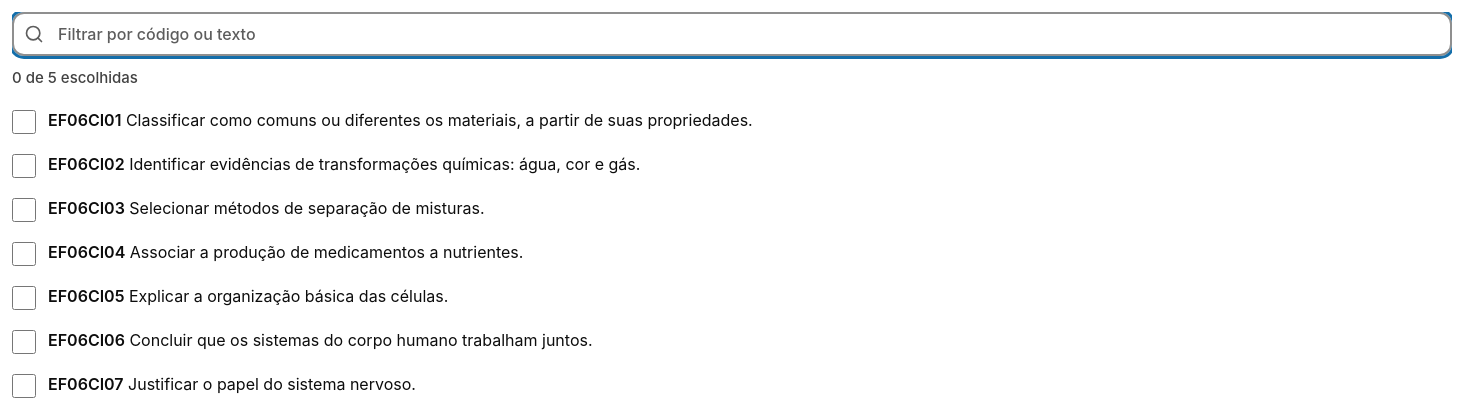
Test case: o filtro › na tela: digitar por código e por texto reduz a lista, e o que não acha diz "Nenhuma habilidade com esse código ou texto."
Type "ci05" into the search field labelled "Filtrar por código ou texto" at [732, 34], box [12,12,1452,56]
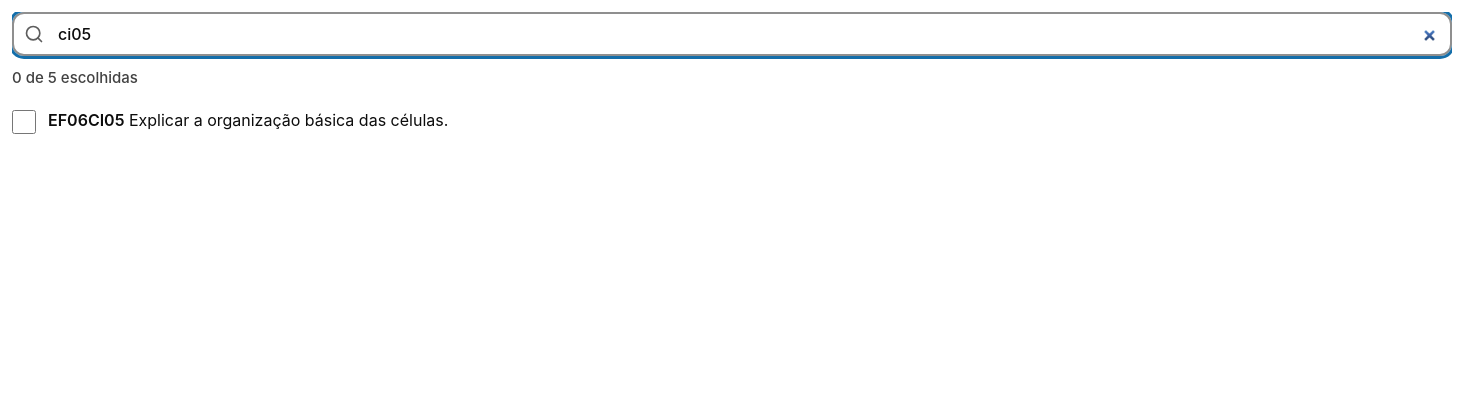
Replace the text in the search field named "Filtrar por código ou texto" with "célula" at [732, 34], box [12,12,1452,56]
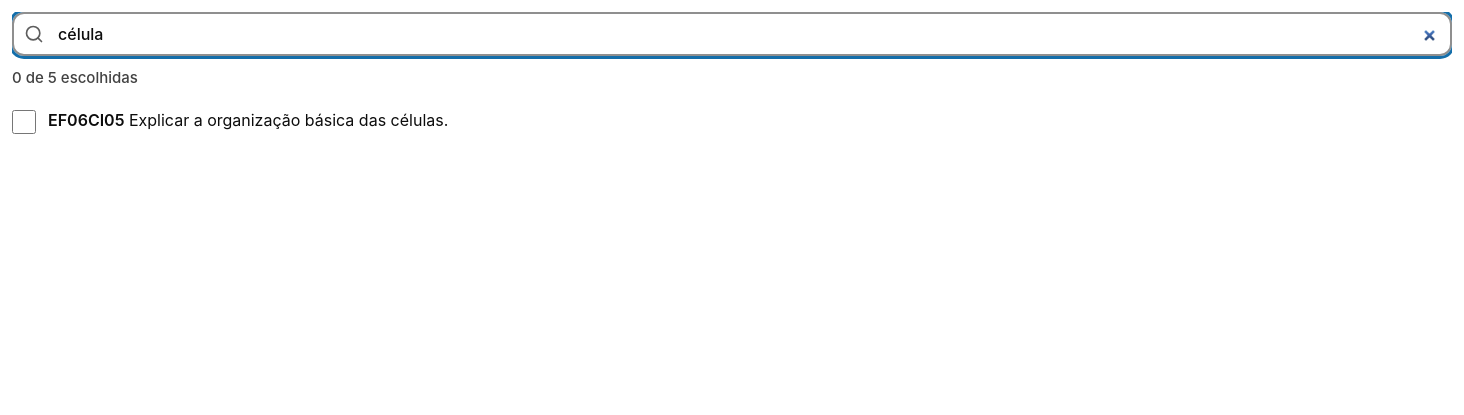
Check: the number of checkboxes is 1, box [12,110,36,134]
Replace the text in the search field named "Filtrar por código ou texto" with "xyz inexistente" at [732, 34], box [12,12,1452,56]
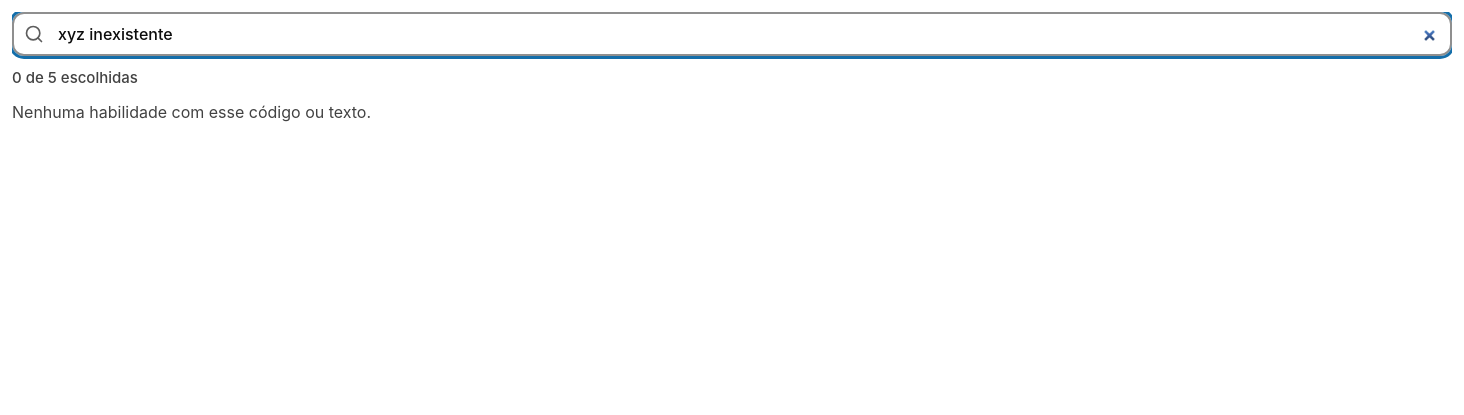
Check: no checkboxes are shown
Check: the text "Nenhuma habilidade com esse código ou texto." is shown, box [12,102,371,122]
